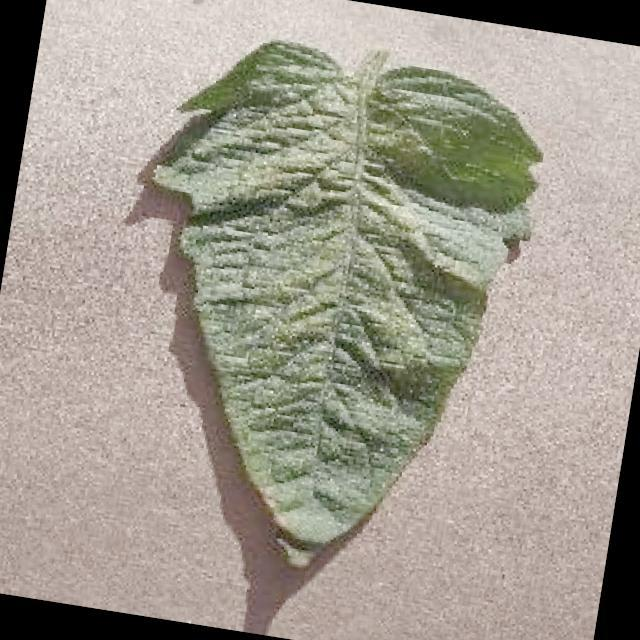Tomato spider mites leaf: (92, 25, 552, 594)
